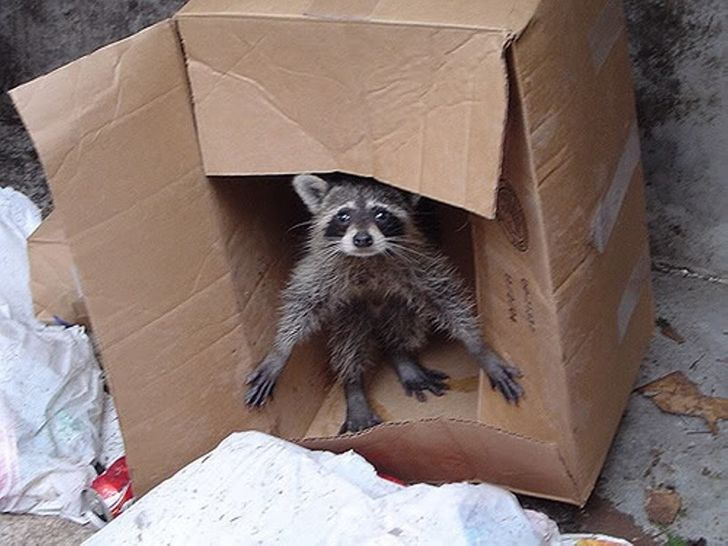raccoon: (274, 166, 487, 413)
